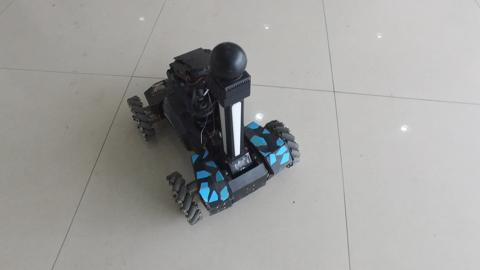chariot: (99, 29, 287, 210)
